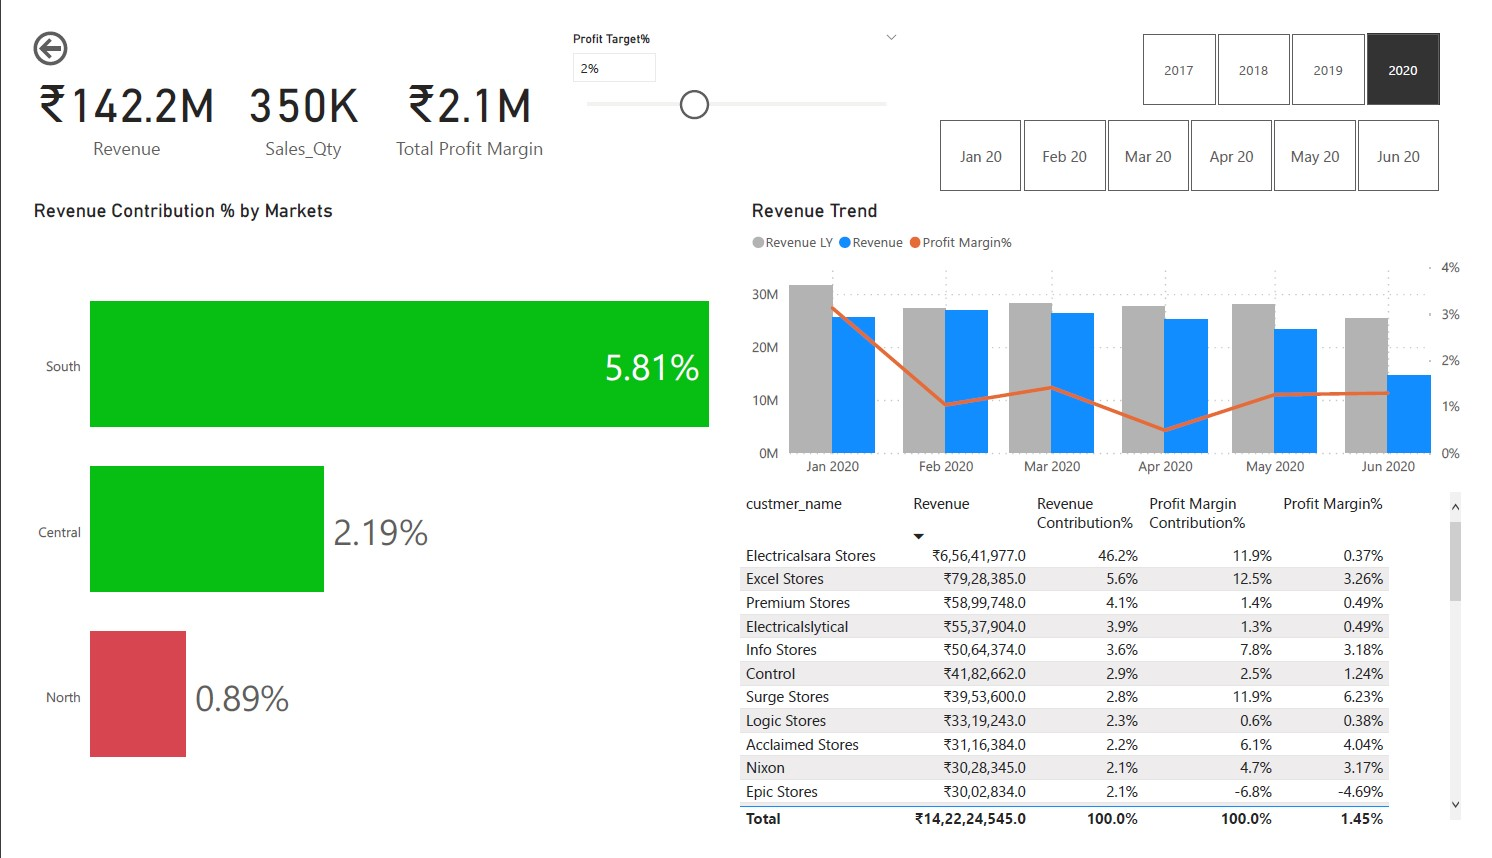

Layout of this report page (visuals, bound fields, positions):
{"tool":"powerbi","page":{"name":"Performance Insights","canvas":[1280,720],"ordinal":2},"visuals":[{"type":"card","fields":{"Values":["BaseMeasures.Revenue"]},"box":[0,0,175.6,153.7],"z":0},{"type":"card","fields":{"Values":["BaseMeasures.Sales Qty"]},"box":[175.6,0,138.6,153.7],"z":1000},{"type":"slicer","fields":{"Values":["sales date.year"]},"box":[966,0,314.2,76.8],"z":5000},{"type":"slicer","fields":{"Values":["sales date.cy_date"]},"box":[786.3,76.8,494,76.8],"z":6000},{"type":"lineClusteredColumnComboChart","title":"Revenue Trend","fields":{"Category":["sales date.cy_date"],"Y":["BaseMeasures.Revenue LY","BaseMeasures.Revenue"],"Y2":["BaseMeasures.Profit Margin%"]},"box":[639.5,153.7,640.8,256.6],"z":9000},{"type":"card","fields":{"Values":["BaseMeasures.Total_Profit_Margin"]},"box":[314.2,0,157.8,153.7],"z":10000},{"type":"barChart","title":"Revenue Contribution % by Markets","fields":{"Y":["BaseMeasures.Profit Margin%"],"Category":["sales markets.zone","sales markets.markets_name","sales customers.custmer_name"]},"box":[0,153.7,628.5,566.7],"z":10001},{"type":"actionButton","box":[0,0,100.2,39.8],"z":10002},{"type":"tableEx","fields":{"Values":["sales customers.custmer_name","BaseMeasures.Revenue","BaseMeasures.Revenue_Contribution%","BaseMeasures.Profit_Margin_Contribution%","BaseMeasures.Profit_Margin%"]},"box":[628.5,410.3,651.8,310.1],"z":10003},{"type":"slicer","fields":{"Values":["Profit Target%.Profit Target%"]},"box":[472,0,314.2,107],"z":10004}]}

Visuals, with their boxes in screenshot pixels (x1, y1, x2, y2), scaled from the page's 1280x720 canvas onto the 1492x858 screenshot:
card - BaseMeasures.Revenue: l=0, t=0, r=205, b=183
card - BaseMeasures.Sales Qty: l=205, t=0, r=366, b=183
slicer - sales date.year: l=1126, t=0, r=1491, b=92
slicer - sales date.cy_date: l=917, t=92, r=1491, b=183
"Revenue Trend" lineClusteredColumnComboChart: l=745, t=183, r=1491, b=489
card - BaseMeasures.Total_Profit_Margin: l=366, t=0, r=550, b=183
"Revenue Contribution % by Markets" barChart: l=0, t=183, r=733, b=857
actionButton: l=0, t=0, r=117, b=47
tableEx - sales customers.custmer_name x BaseMeasures.Revenue: l=733, t=489, r=1491, b=857
slicer - Profit Target%.Profit Target%: l=550, t=0, r=916, b=128
